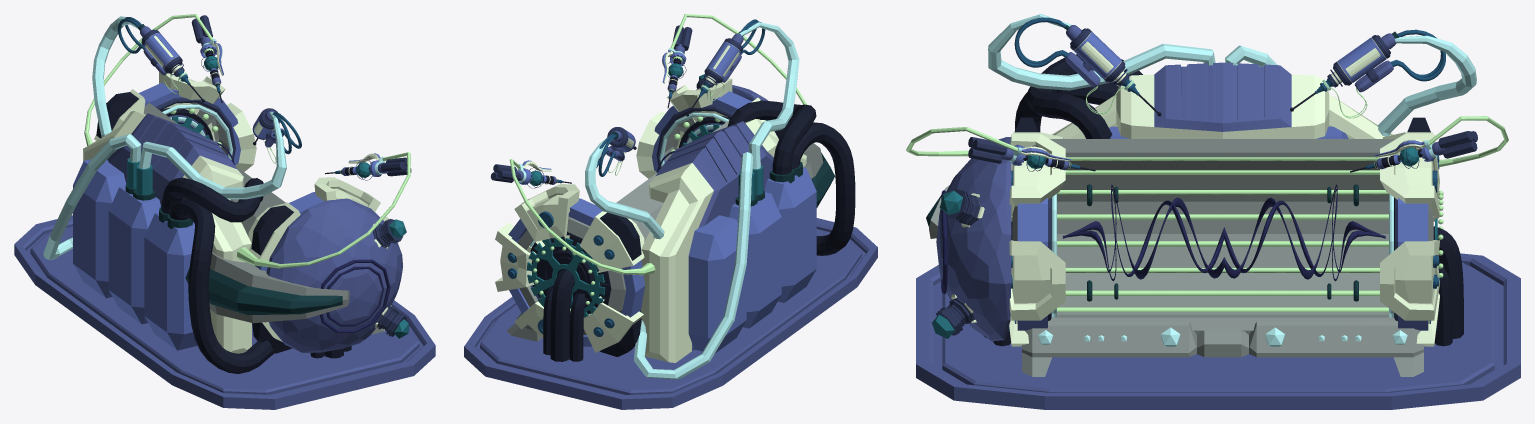
Rendered from st3_thorn castle (1).fbx.
3 renders of one model, left to right at view 1: azimuth 30°, elevation 25°; view 2: azimuth 150°, elevation 25°; view 3: azimuth 270°, elevation 25°, orthographic. The views are drawn at different scales.
Parts seen in each view (by area): view 1: 1_thorn_stick_castle_main_45, 1_thorn_stick_castle_main_19, 1_thorn_stick_castle_main_25, 1_thorn_stick_castle_main_36, 1_thorn_stick_castle_main_42, 1_thorn_stick_castle_main_3, 1_thorn_stick_castle_main_18, 1_thorn_stick_castle_main_34, 1_thorn_stick_castle_main_17, 1_thorn_stick_castle_main_16, 1_thorn_stick_castle_main_13, 1_thorn_stick_castle_main_1 (+14 smaller); view 2: 1_thorn_stick_castle_main_45, 1_thorn_stick_castle_main_19, 1_thorn_stick_castle_main_3, 1_thorn_stick_castle_main_18, 1_thorn_stick_castle_main_42, 1_thorn_stick_castle_main_36, 1_thorn_stick_castle_main_34, 1_thorn_stick_castle_main_1, 1_thorn_stick_castle_main_41, 1_thorn_stick_castle_main_21, 1_thorn_stick_castle_main_2, 1_thorn_stick_castle_main_13 (+15 smaller); view 3: 1_thorn_stick_castle_main_9, 1_thorn_stick_castle_main_45, 1_thorn_stick_castle_main_3, 1_thorn_stick_castle_main_20, 1_thorn_stick_castle_main_23, 1_thorn_stick_castle_main_25, 1_thorn_stick_castle_main_34, 1_thorn_stick_castle_main_18, 1_thorn_stick_castle_main_42, 0_thorn_stick_base, 1_thorn_stick_castle_main_36, 1_thorn_stick_castle_main_1 (+16 smaller).
Part boxes in pixels (x1,y1,x2,y2): 1_thorn_stick_castle_main_45: (14,215,435,409); 1_thorn_stick_castle_main_19: (73,159,197,350); 1_thorn_stick_castle_main_25: (266,198,402,353); 1_thorn_stick_castle_main_36: (161,177,274,373); 1_thorn_stick_castle_main_42: (43,16,286,259); 1_thorn_stick_castle_main_3: (94,72,389,341); 1_thorn_stick_castle_main_18: (83,111,251,353); 1_thorn_stick_castle_main_34: (107,113,236,206); 1_thorn_stick_castle_main_17: (185,268,342,315); 1_thorn_stick_castle_main_16: (209,252,349,323); 1_thorn_stick_castle_main_13: (96,92,293,353); 1_thorn_stick_castle_main_1: (139,82,323,271); 1_thorn_stick_castle_main_45: (464,218,877,409); 1_thorn_stick_castle_main_19: (688,167,816,353); 1_thorn_stick_castle_main_3: (495,78,778,352); 1_thorn_stick_castle_main_18: (641,119,806,362); 1_thorn_stick_castle_main_42: (585,22,799,379); 1_thorn_stick_castle_main_36: (727,100,855,255); 1_thorn_stick_castle_main_34: (656,121,773,350); 1_thorn_stick_castle_main_1: (508,91,751,346); 1_thorn_stick_castle_main_41: (526,237,605,317); 1_thorn_stick_castle_main_21: (550,269,574,361); 1_thorn_stick_castle_main_2: (517,110,701,334); 1_thorn_stick_castle_main_13: (599,100,788,356); 1_thorn_stick_castle_main_9: (1048,139,1397,334); 1_thorn_stick_castle_main_45: (916,253,1520,409); 1_thorn_stick_castle_main_3: (1009,132,1439,346); 1_thorn_stick_castle_main_20: (1022,321,1423,376); 1_thorn_stick_castle_main_23: (1057,157,1388,312); 1_thorn_stick_castle_main_25: (936,137,1011,341); 1_thorn_stick_castle_main_34: (1154,62,1291,131); 1_thorn_stick_castle_main_18: (1052,74,1393,138); 1_thorn_stick_castle_main_42: (988,14,1476,136); 0_thorn_stick_base: (1062,184,1385,281); 1_thorn_stick_castle_main_36: (1011,54,1142,226); 1_thorn_stick_castle_main_1: (1017,198,1428,330).
Bounding box in the file's own units: 466 × 448 × 808.
